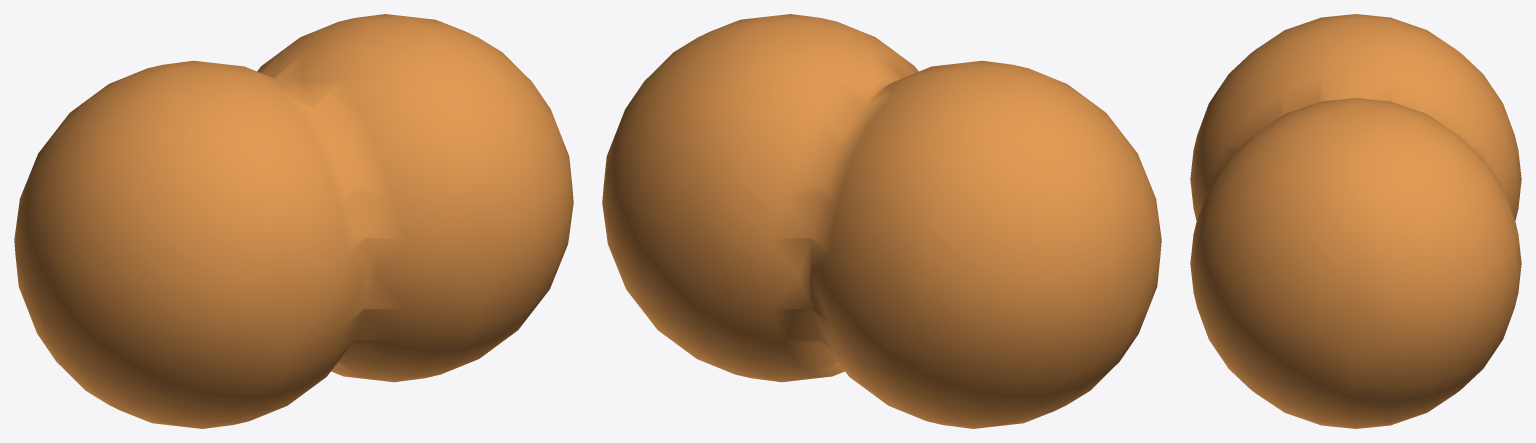
File: expected.gltf
3 renders of one model, left to right at view 1: azimuth 30°, elevation 25°; view 2: azimuth 150°, elevation 25°; view 3: azimuth 270°, elevation 25°, orthographic. The views are drawn at different scales.
Bounding box in the file's own units: 32 × 20 × 20.
